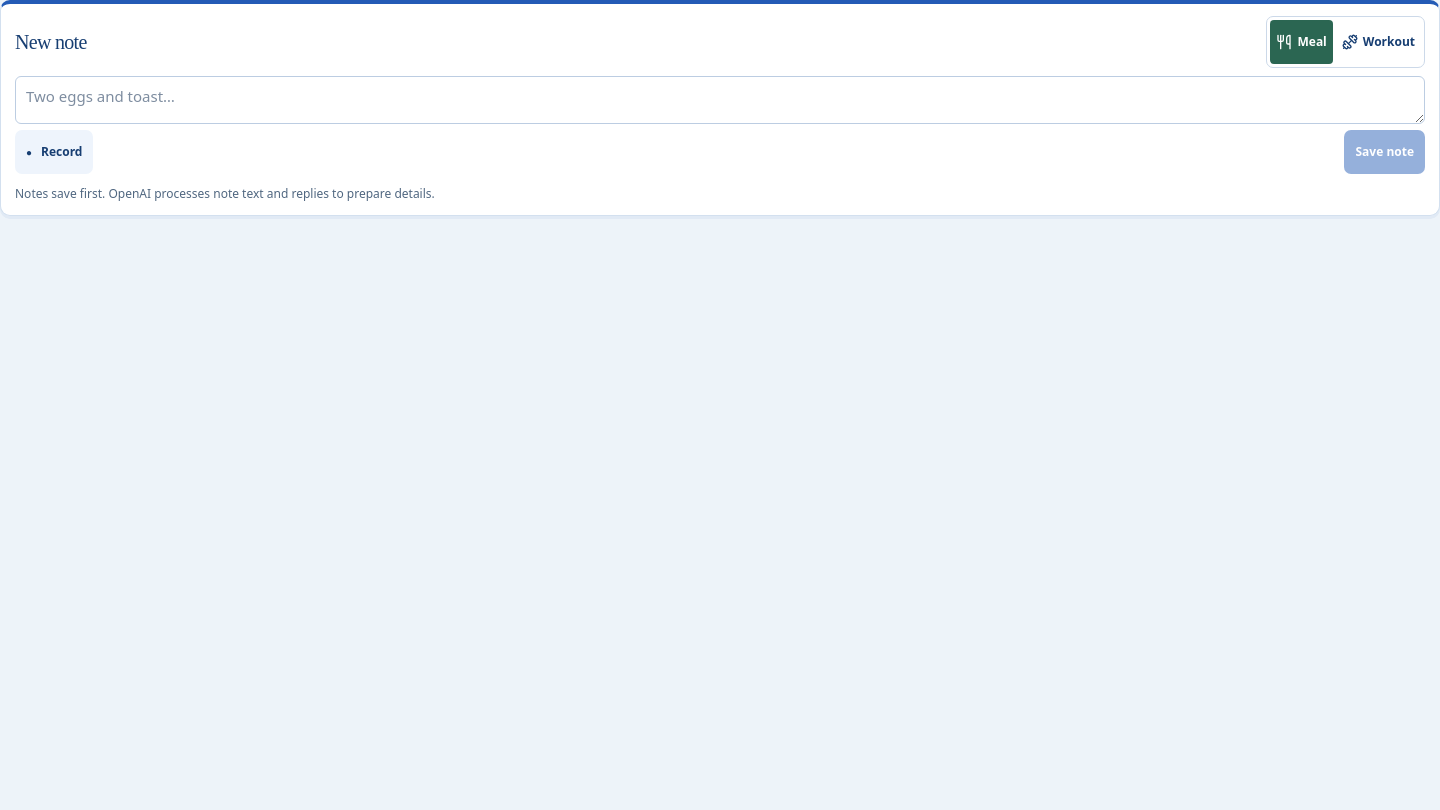
Test case: dismissing an error does not hide the same failure on the next recording attempt
Click the button "● Record".
click(54, 152)  # box [15, 130, 94, 174]
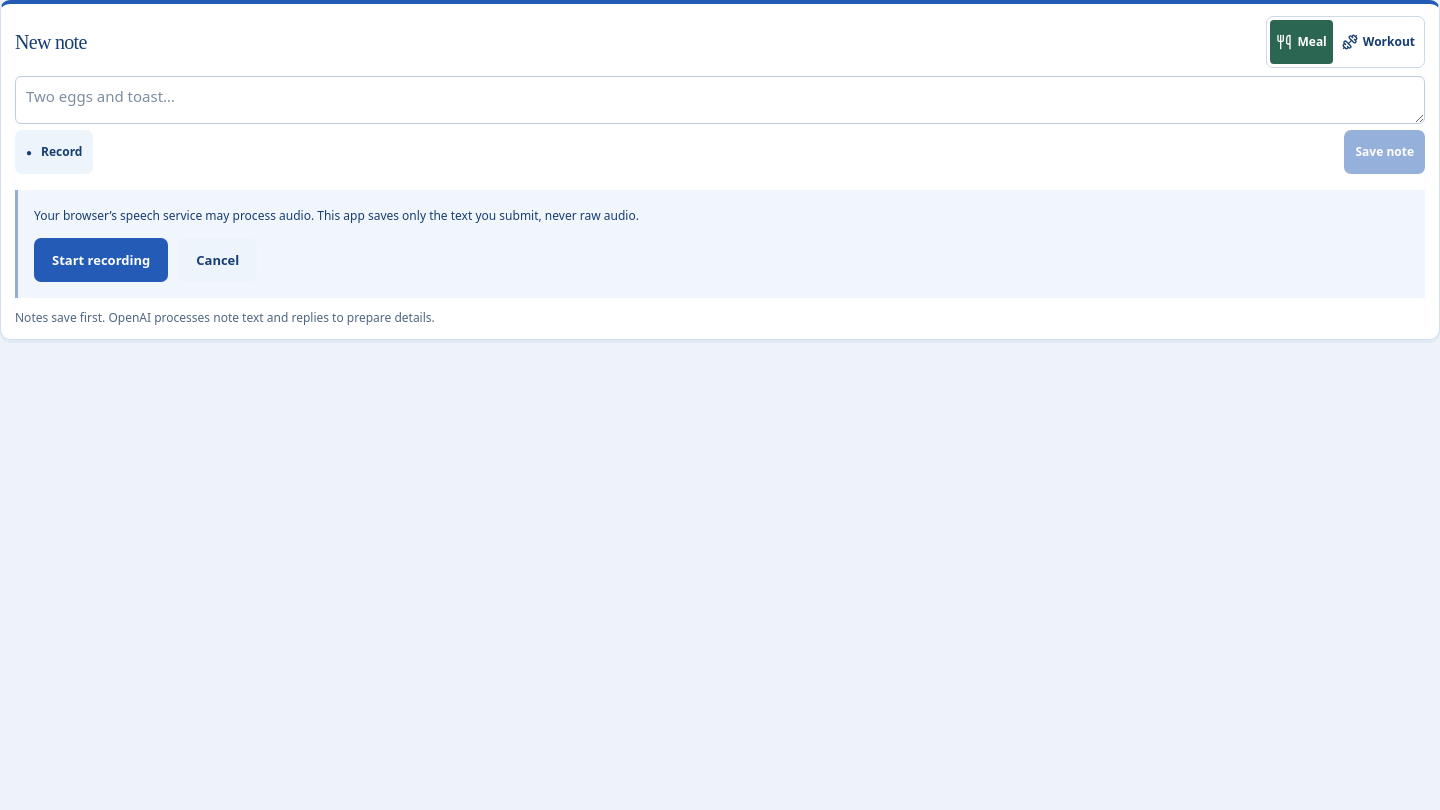
Check: the text "browser’s speech service may process audio" is shown, box [34, 207, 639, 224]
Click the button "Start recording".
click(101, 260)  # box [34, 238, 168, 282]
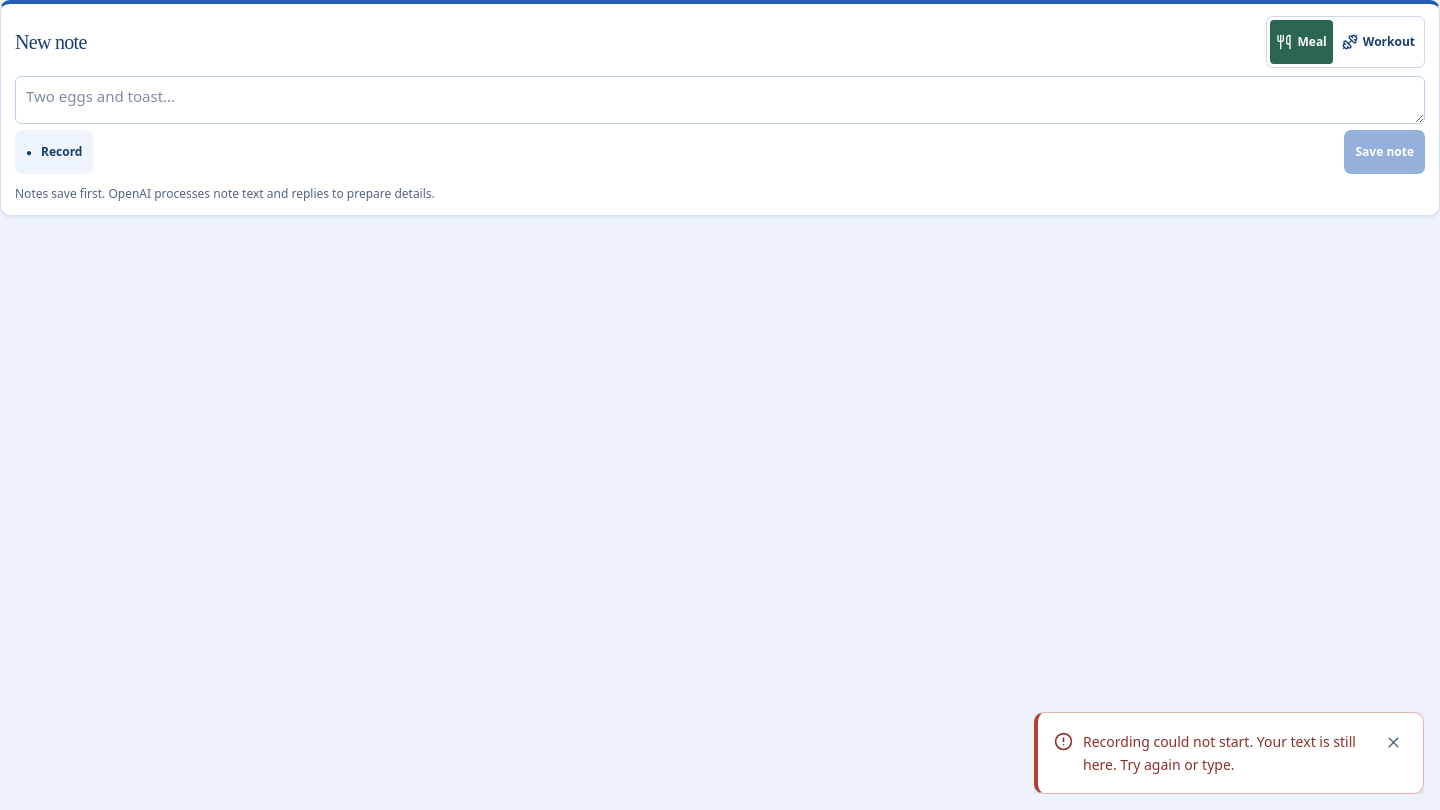
Check: the message shows "could not start", box [1083, 732, 1356, 774]
Click the button named "Dismiss error".
click(1393, 743)  # box [1371, 721, 1415, 765]
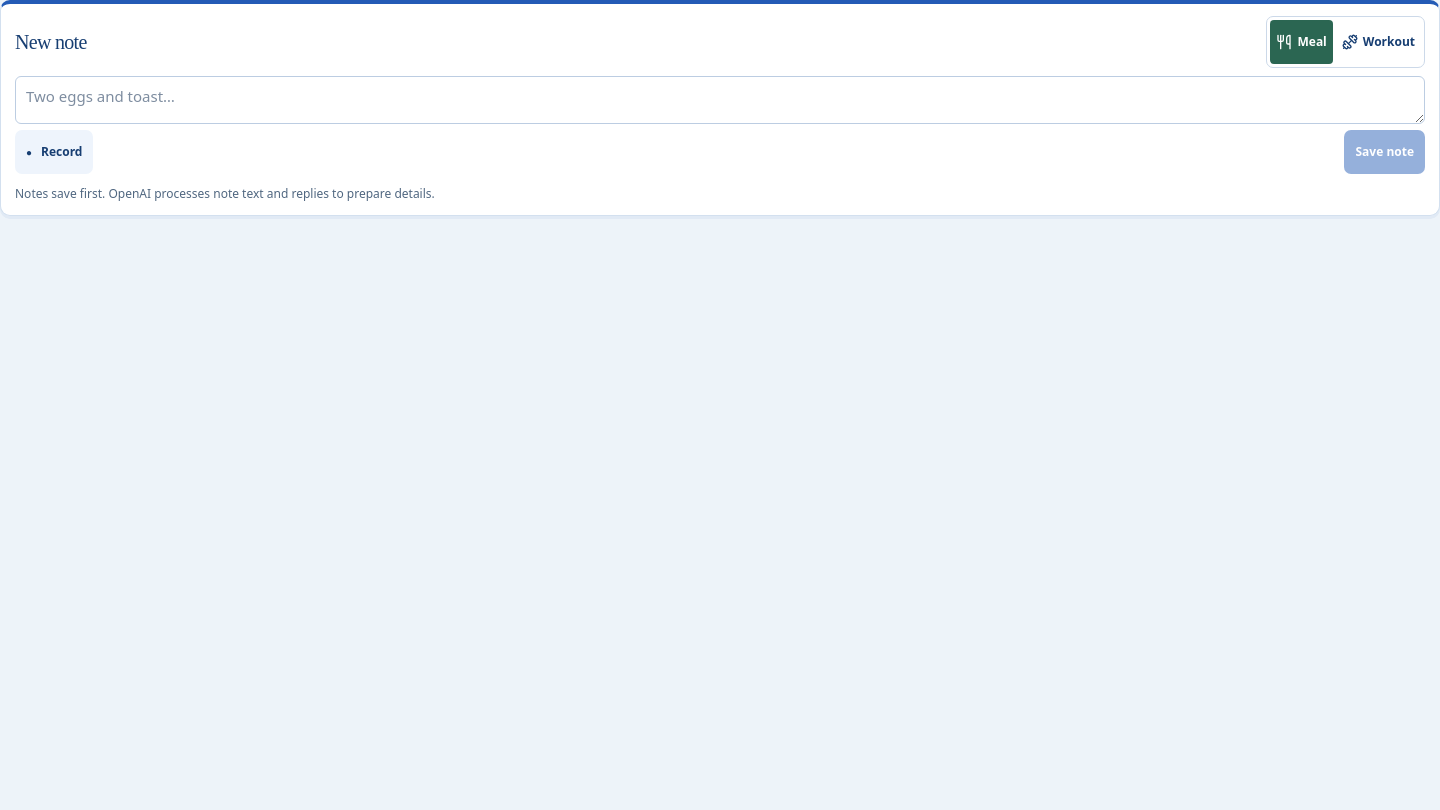
Check: the message "Recording could not start. Your text is still here. Try again or type." is gone
Click the button "● Record".
click(54, 152)  # box [15, 130, 94, 174]
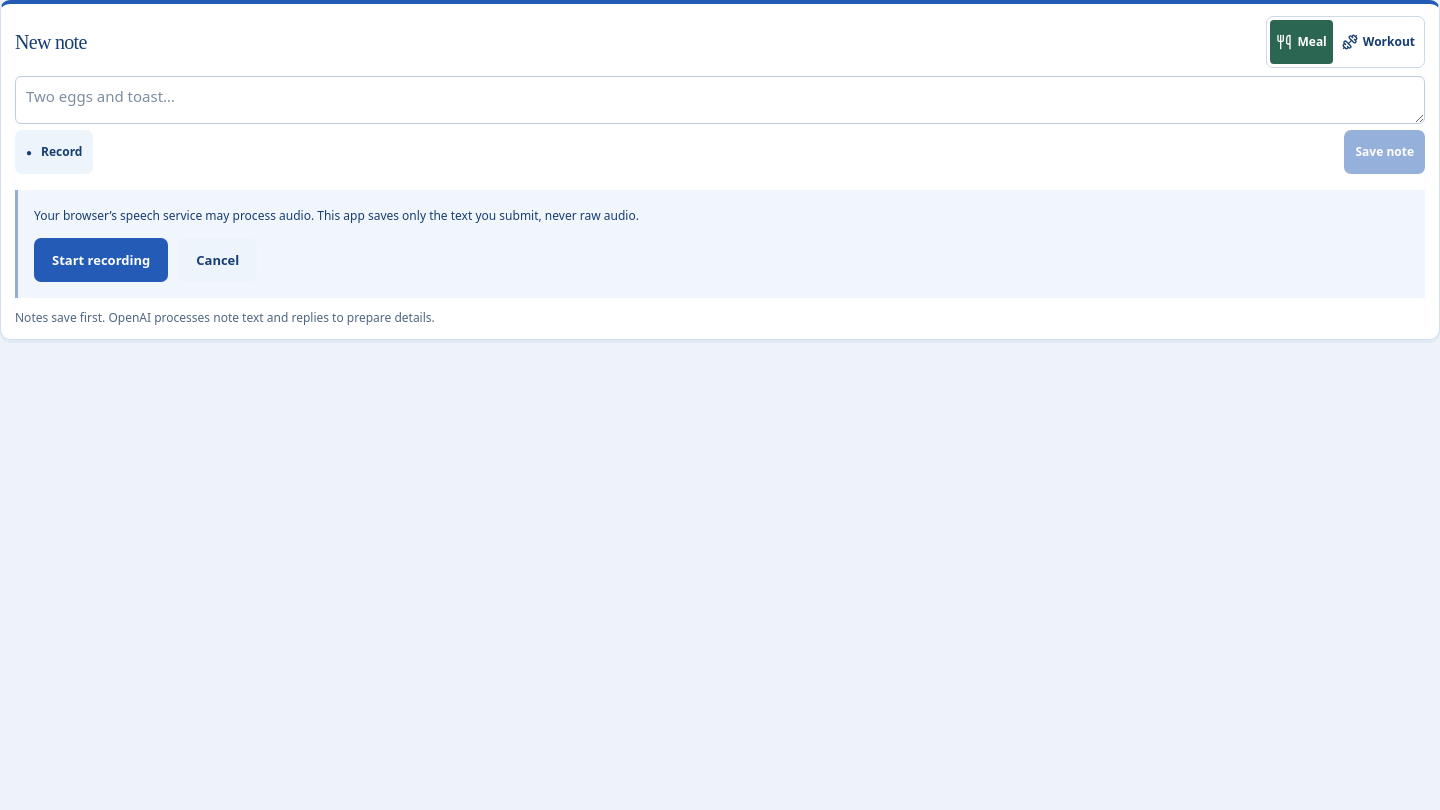
Click the button "Start recording".
click(101, 260)  # box [34, 238, 168, 282]
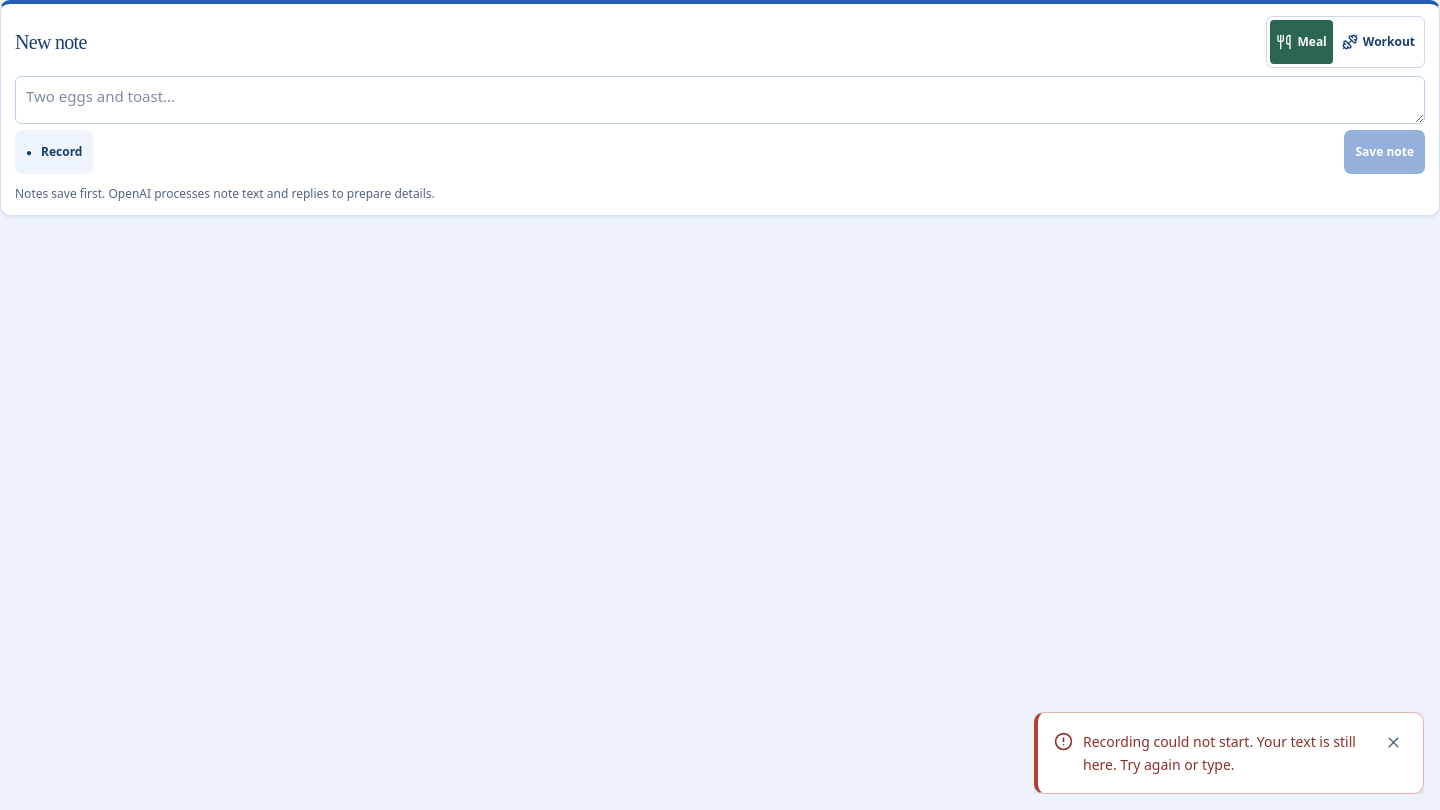
Check: the message shows "could not start", box [1083, 732, 1356, 774]
